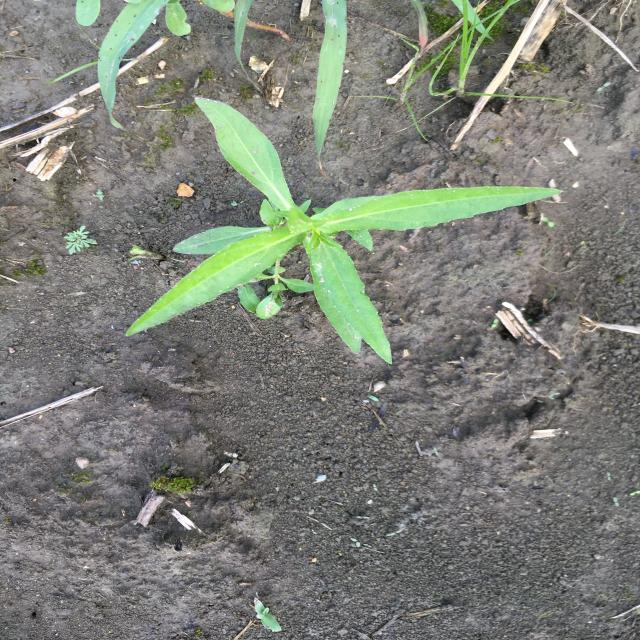Eclipta: (122, 94, 566, 367)
Ragweed: (61, 225, 100, 258)
